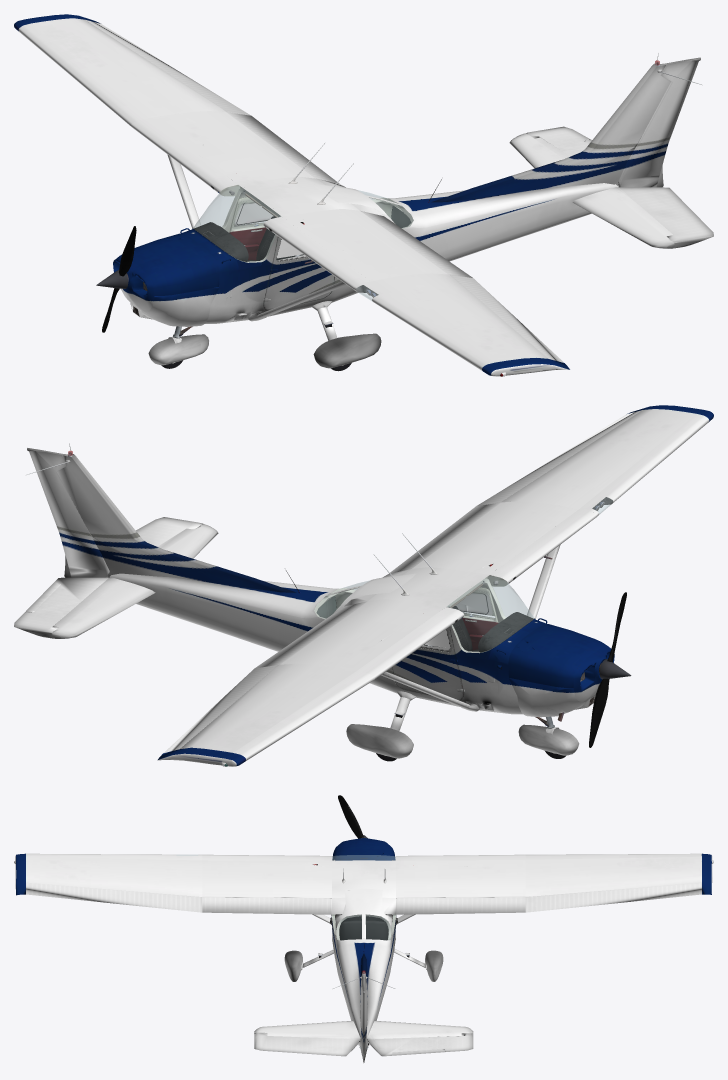
Rendered from c172-reference.glb.
3 renders of one model, top to bottom at view 1: azimuth 30°, elevation 25°; view 2: azimuth 150°, elevation 25°; view 3: azimuth 270°, elevation 25°, orthographic. The views are drawn at different scales.
Visible parts, largest first — view 1: fuselage, wing_center, wing_left, vstab.001, wing_right, glas, wing_leading_edge_center, rudder, hstab, fuselage_cowling_top, elevatorleft, leftdoor (+14 smaller); view 2: fuselage, wing_center, wing_left, wing_right, vstab.001, glas, wing_leading_edge_center, rudder, fuselage_cowling_top, hstab, rightdoor, flaps (+14 smaller); view 3: wing_center, wing_right, wing_left, fuselage, flaps, hstab, leftaileron, rightaileron, elevatorleft, elevatorright, glas, wing_leading_edge_center (+7 smaller).
Part boxes in pixels (<box>): fuselage: <box>113,154,618,323</box>; wing_center: <box>149,111,448,281</box>; wing_left: <box>371,273,569,376</box>; vstab.001: <box>431,63,670,202</box>; wing_right: <box>14,14,226,118</box>; glas: <box>193,185,413,262</box>; wing_leading_edge_center: <box>131,118,370,289</box>; rudder: <box>618,57,700,187</box>; hstab: <box>509,133,674,248</box>; fuselage_cowling_top: <box>120,233,219,295</box>; elevatorleft: <box>619,187,713,248</box>; leftdoor: <box>264,237,335,310</box>; fuselage: <box>109,545,614,714</box>; wing_center: <box>279,501,578,670</box>; wing_left: <box>501,405,713,509</box>; wing_right: <box>157,663,356,766</box>; vstab.001: <box>57,454,296,592</box>; glas: <box>315,576,534,652</box>; wing_leading_edge_center: <box>357,509,596,679</box>; rudder: <box>27,448,109,577</box>; fuselage_cowling_top: <box>508,624,607,687</box>; hstab: <box>51,524,218,638</box>; rightdoor: <box>392,628,463,700</box>; flaps: <box>255,503,499,668</box>; wing_center: <box>202,860,525,914</box>; wing_right: <box>525,853,712,896</box>; wing_left: <box>15,853,202,896</box>; fuselage: <box>312,838,415,1051</box>; flaps: <box>202,897,525,914</box>; hstab: <box>254,1020,473,1041</box>; leftaileron: <box>26,882,202,912</box>; rightaileron: <box>525,882,701,912</box>; elevatorleft: <box>254,1032,359,1056</box>; elevatorright: <box>368,1033,473,1056</box>; glas: <box>332,855,395,939</box>; wing_leading_edge_center: <box>202,854,525,860</box>.
Size of the model in its own units: 8.23 by 2.46 by 11.32.
Materials: 9 (8 with a texture image).
